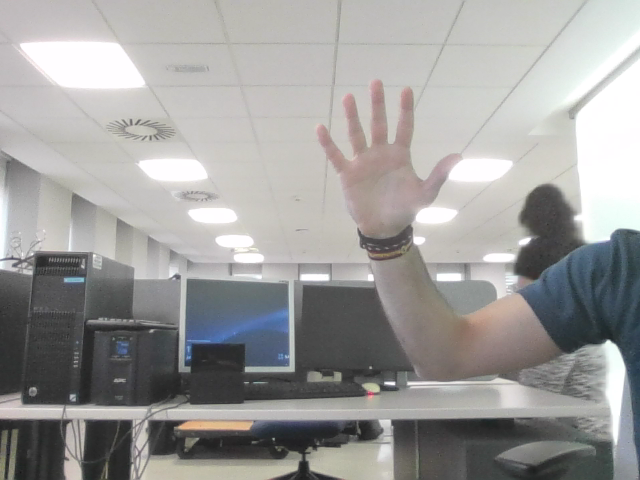Mano Abierta: (326, 91, 445, 207)
